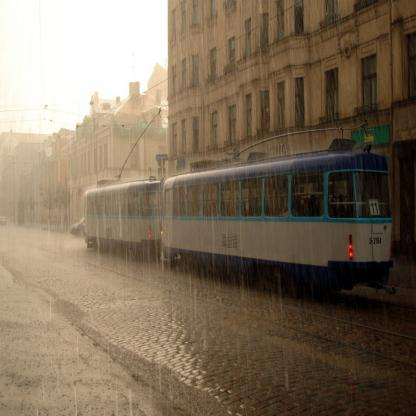Bus: (162, 117, 395, 292), (81, 166, 166, 262)
